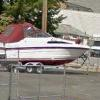Boat: (2, 16, 90, 73)
